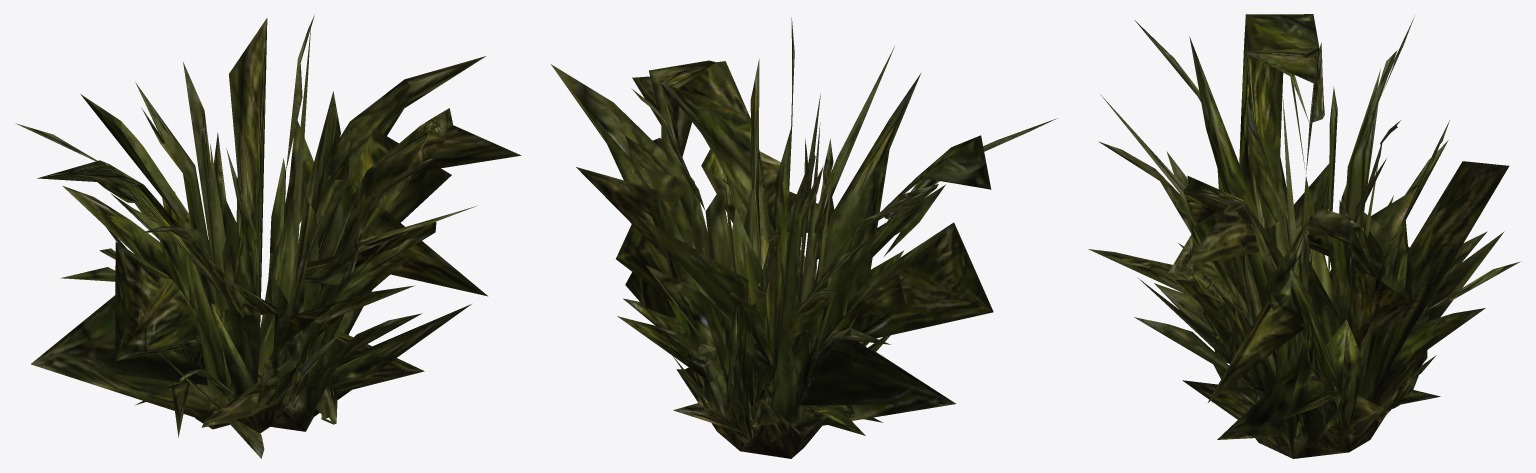
Rendered from grass.glb.
3 renders of one model, left to right at view 1: azimuth 30°, elevation 25°; view 2: azimuth 150°, elevation 25°; view 3: azimuth 270°, elevation 25°, orthographic. The views are drawn at different scales.
Parts seen in each view (by area): view 1: tripo_node_3eab9c81-1594-4d76-accd-181544ccbaa2; view 2: tripo_node_3eab9c81-1594-4d76-accd-181544ccbaa2; view 3: tripo_node_3eab9c81-1594-4d76-accd-181544ccbaa2.
Part boxes in pixels (<box>): tripo_node_3eab9c81-1594-4d76-accd-181544ccbaa2: <box>15,15,521,458</box>; tripo_node_3eab9c81-1594-4d76-accd-181544ccbaa2: <box>551,17,1057,458</box>; tripo_node_3eab9c81-1594-4d76-accd-181544ccbaa2: <box>1088,14,1520,458</box>.
Bounding box in the file's own units: 1 × 0.8325 × 0.8072.
Materials: 1 (1 with a texture image).
